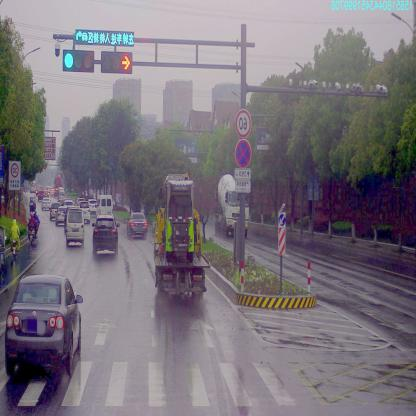traffic-light: (76, 31, 136, 44), (62, 50, 93, 72), (102, 54, 133, 74)
